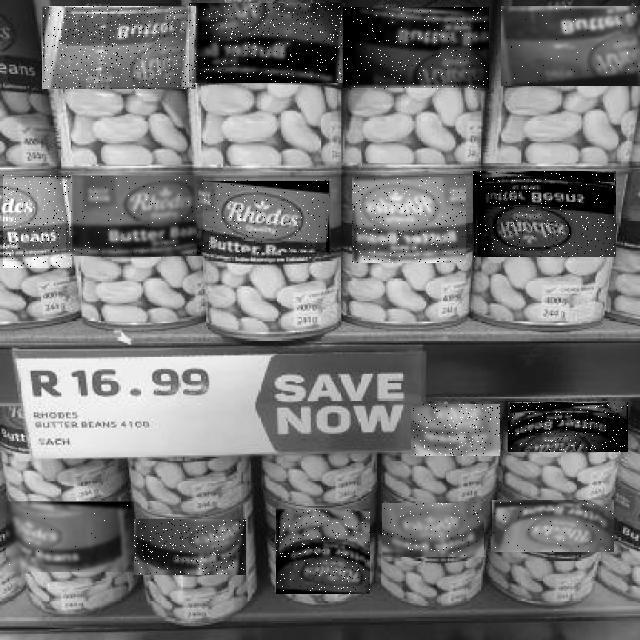Beans: (42, 6, 196, 89), (189, 3, 345, 83), (473, 171, 616, 257), (343, 8, 489, 90), (501, 6, 640, 86), (66, 176, 203, 256), (197, 180, 331, 254), (352, 177, 466, 263), (6, 502, 134, 572), (276, 509, 370, 594), (3, 175, 72, 268), (492, 500, 614, 552), (134, 519, 246, 575), (509, 402, 629, 452), (382, 503, 484, 557), (411, 404, 500, 456)
